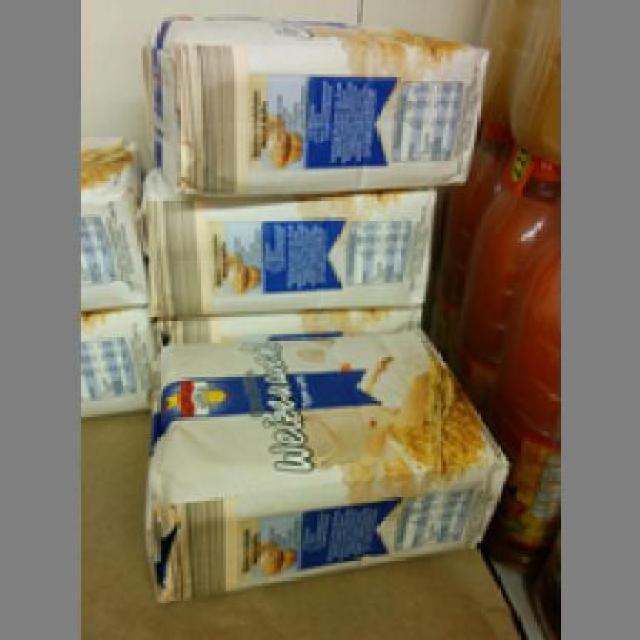Flour: (140, 323, 509, 603), (140, 8, 489, 195), (137, 172, 434, 308)
